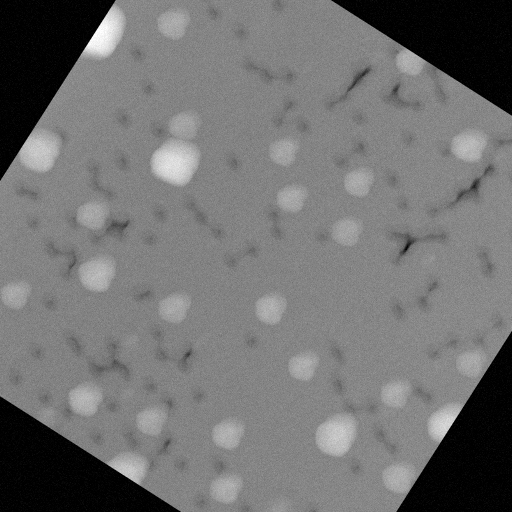Hole: (418, 160, 489, 235), (316, 47, 380, 121), (242, 43, 304, 97), (81, 341, 140, 396), (367, 70, 424, 125), (141, 327, 201, 379), (371, 215, 424, 271), (175, 194, 235, 243), (215, 225, 267, 281), (29, 226, 84, 278), (72, 155, 129, 205), (415, 66, 463, 113), (417, 321, 463, 367), (407, 272, 448, 320), (135, 374, 185, 413), (50, 321, 94, 365), (224, 0, 308, 22), (250, 206, 294, 248), (462, 242, 505, 283), (153, 435, 197, 474), (364, 418, 406, 455), (411, 217, 451, 254), (8, 175, 47, 212), (103, 209, 138, 246), (106, 99, 141, 135), (265, 92, 298, 130), (214, 144, 250, 178), (321, 364, 354, 396), (321, 334, 354, 365), (110, 420, 144, 450), (126, 277, 157, 309), (406, 379, 436, 412), (382, 294, 413, 325), (103, 145, 134, 175), (122, 37, 151, 65), (343, 131, 372, 159), (202, 0, 230, 28), (344, 102, 372, 130), (285, 113, 314, 140), (477, 154, 503, 182), (340, 452, 366, 480), (15, 209, 42, 235), (388, 191, 415, 217), (31, 383, 58, 409), (380, 165, 404, 194), (133, 74, 158, 100), (20, 339, 46, 364), (82, 425, 108, 450), (492, 124, 511, 157), (145, 201, 170, 226), (481, 307, 505, 332), (0, 363, 24, 387), (100, 393, 124, 417), (226, 19, 249, 44), (135, 224, 158, 248), (36, 292, 59, 315), (398, 124, 420, 147), (187, 384, 210, 406), (468, 327, 490, 349), (207, 453, 230, 474), (294, 496, 325, 511), (237, 329, 259, 350), (327, 148, 347, 169), (306, 226, 326, 245), (187, 492, 208, 510), (500, 159, 511, 193), (146, 118, 165, 136), (326, 505, 382, 511), (235, 497, 259, 511), (503, 225, 511, 247), (191, 0, 216, 5), (0, 235, 2, 262)
Particle: (136, 100, 224, 198), (72, 0, 140, 81), (297, 397, 367, 471), (11, 119, 71, 184), (144, 273, 203, 335), (238, 275, 296, 337), (439, 113, 498, 173), (68, 243, 124, 302), (274, 336, 329, 395), (96, 436, 156, 487), (199, 404, 253, 460), (416, 387, 466, 446), (65, 184, 118, 239), (56, 371, 109, 425), (198, 459, 252, 511), (368, 452, 420, 505), (266, 169, 316, 222), (335, 153, 385, 205), (322, 202, 371, 255), (145, 0, 198, 49), (370, 367, 419, 418), (123, 395, 172, 446), (0, 266, 39, 322), (446, 339, 492, 386), (261, 126, 305, 173), (386, 44, 431, 85), (257, 485, 303, 511), (30, 403, 64, 432), (120, 328, 147, 356), (414, 247, 440, 275), (116, 382, 139, 406)
